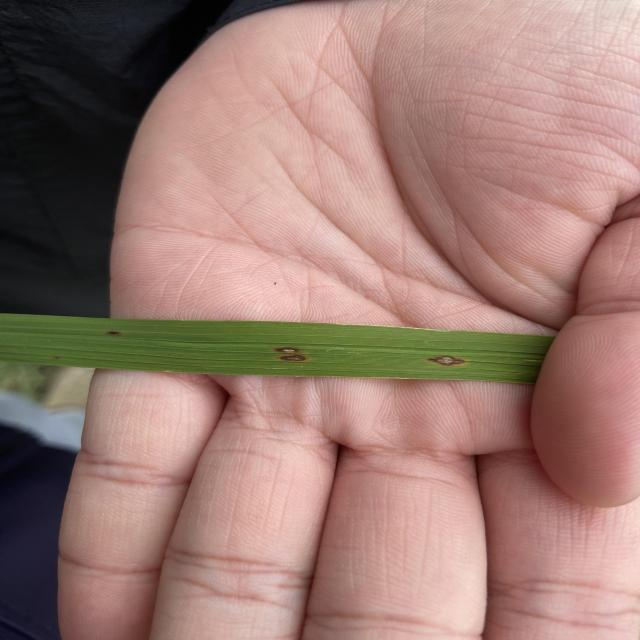Dao on: (422, 354, 467, 367), (275, 354, 310, 362), (272, 347, 300, 354), (107, 331, 121, 335)
